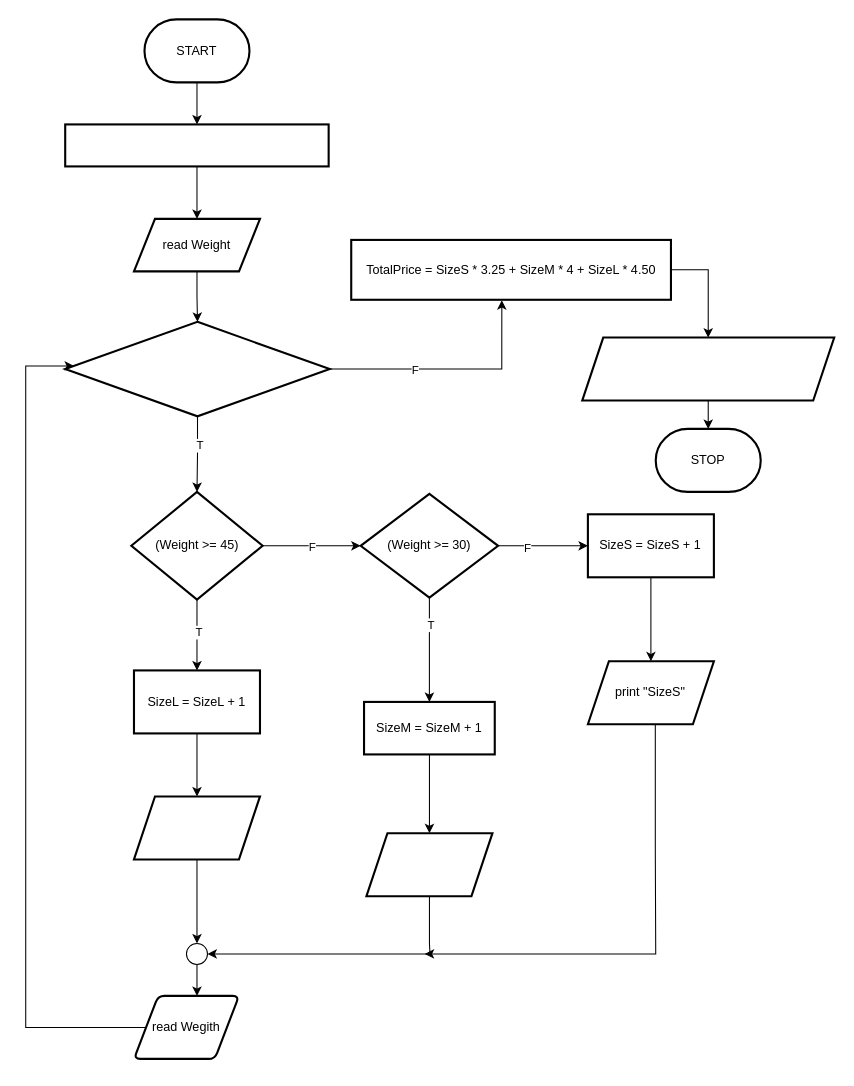
This 854x1086 diagram has some shape labels left out. The centre of each missing label's shape, as x and y in pixels:
print "SizeL": (196,827)
print "SizeM": (429,864)
print TotalPrice , SizeS , SizeM , SizeL: (708,368)
SizeS = 0, SizeM = 0, SizeL = 0 TotalPrice = 0.0: (196,145)
while (Weight > 0 && Weight <= 100): (197,368)
